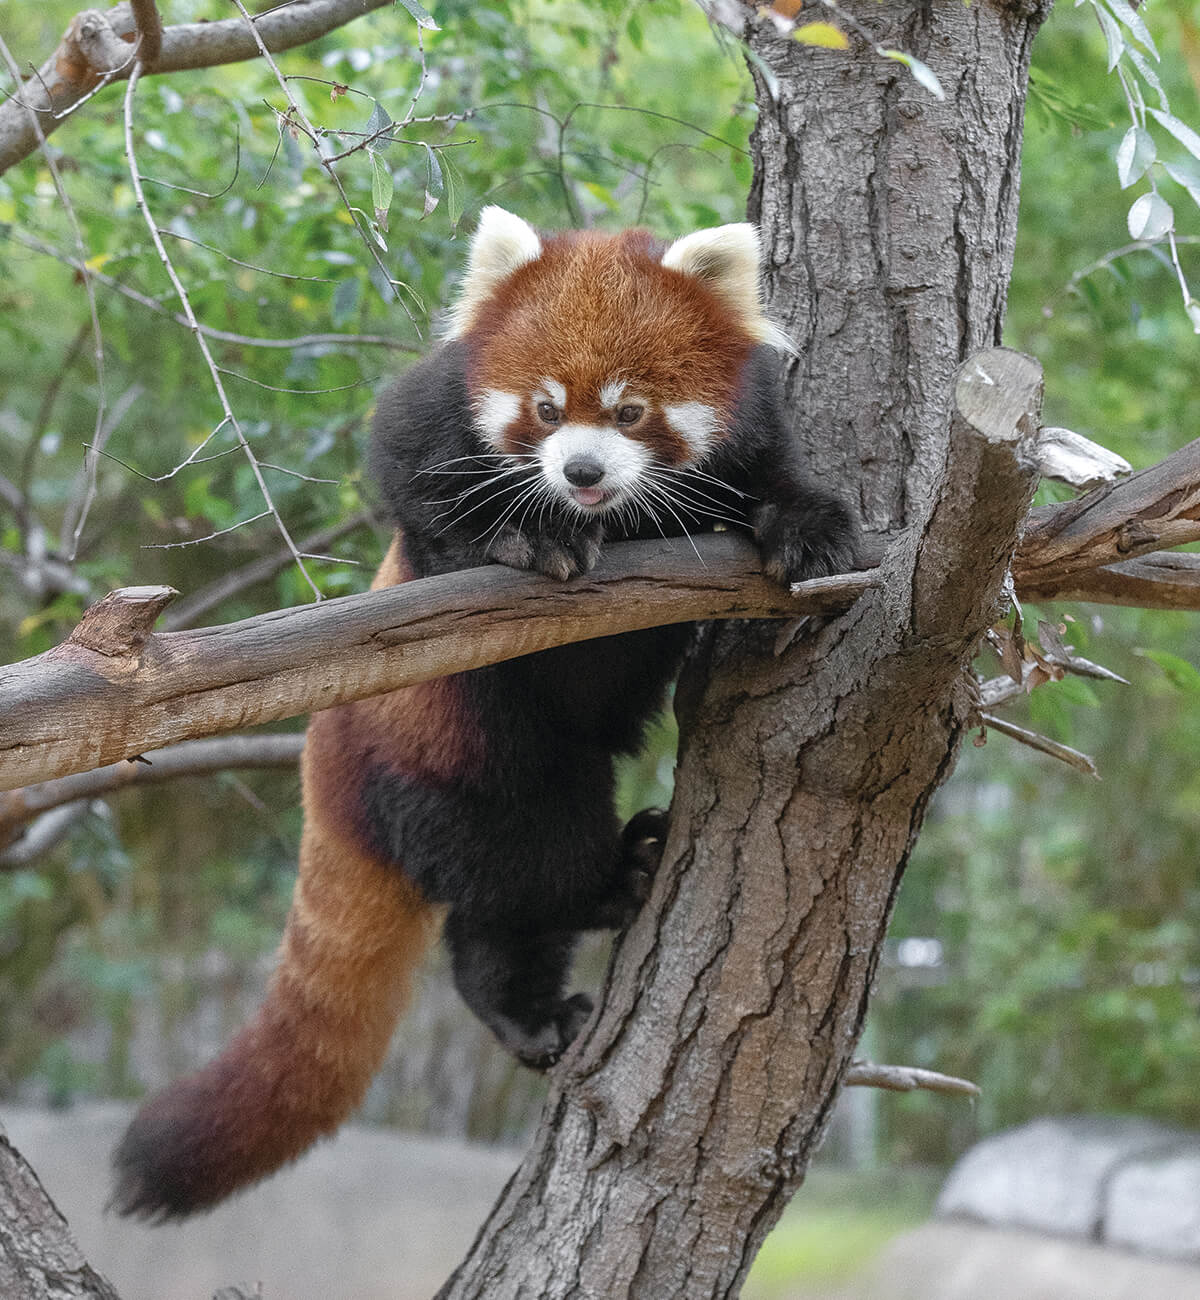Red panda: (446, 200, 782, 525)
